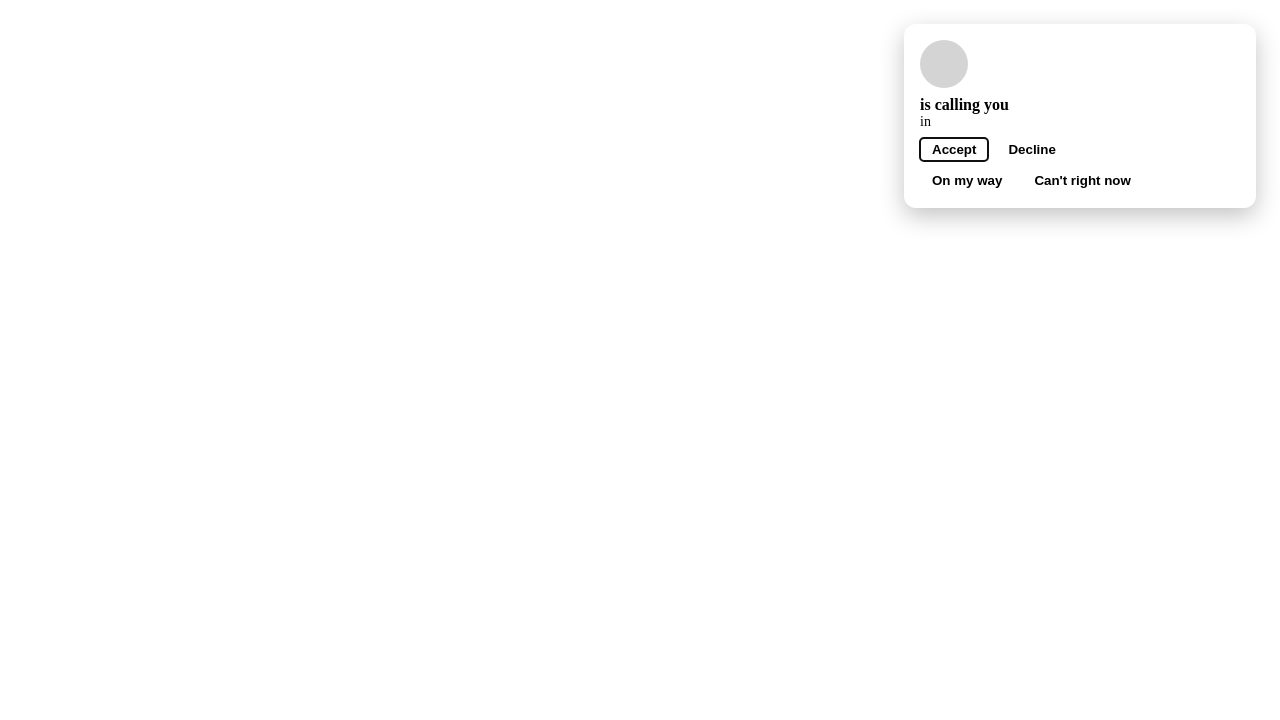
Scenario: accept error is shown inline
The image size is (1280, 720).
Click the button "Accept": {"x": 954, "y": 150} [920,138,988,161]
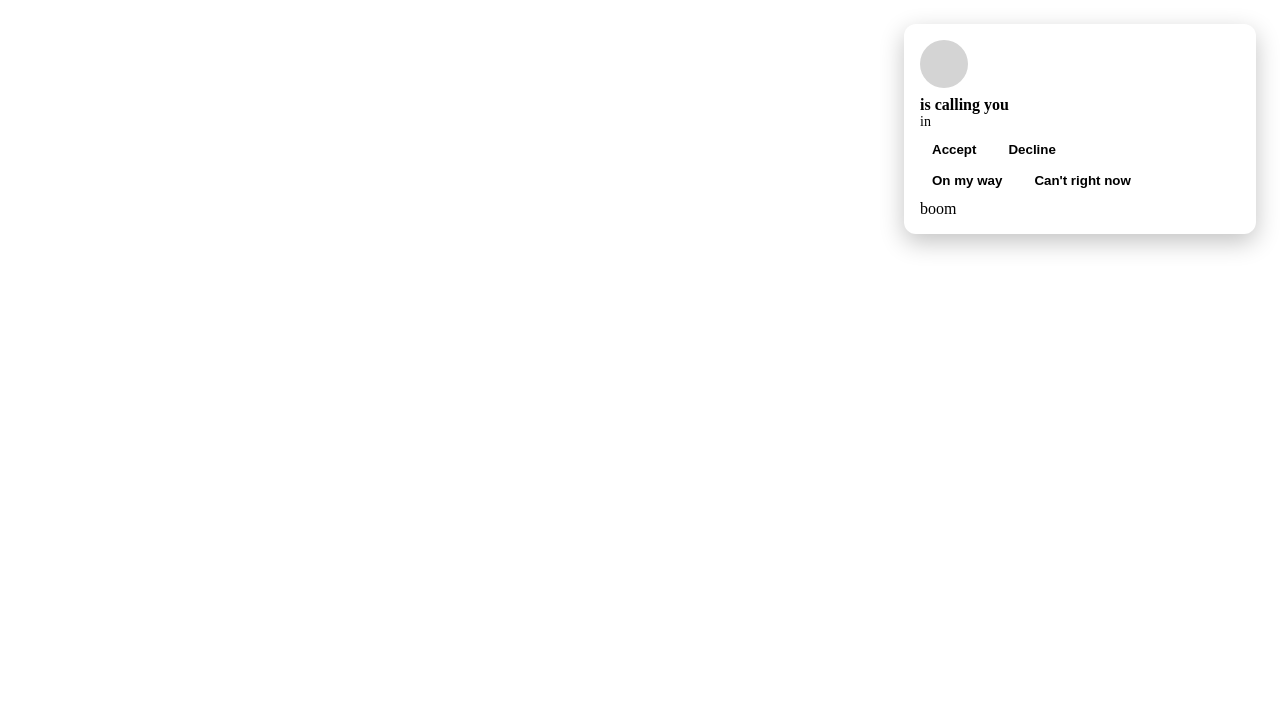
Now the message reads "boom", box [920,200,956,217]
